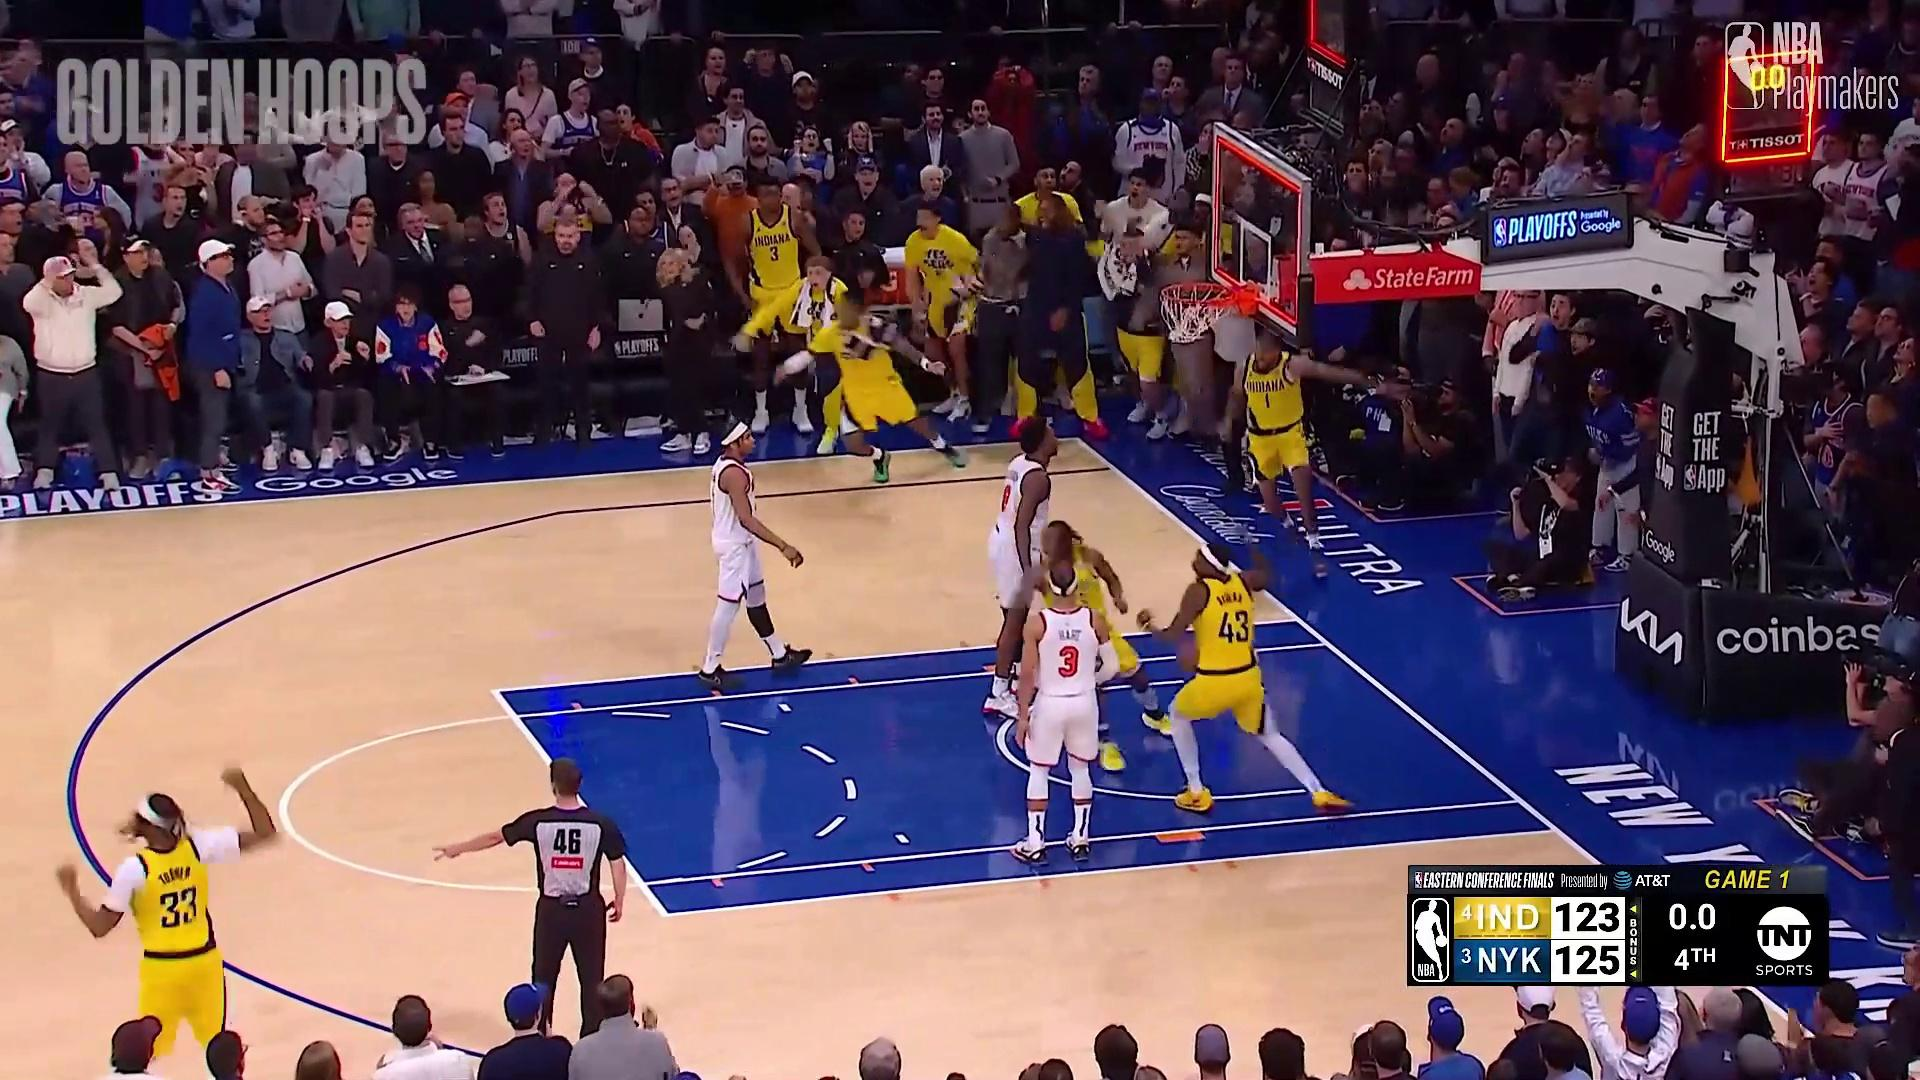hoop: (1162, 277, 1242, 347)
